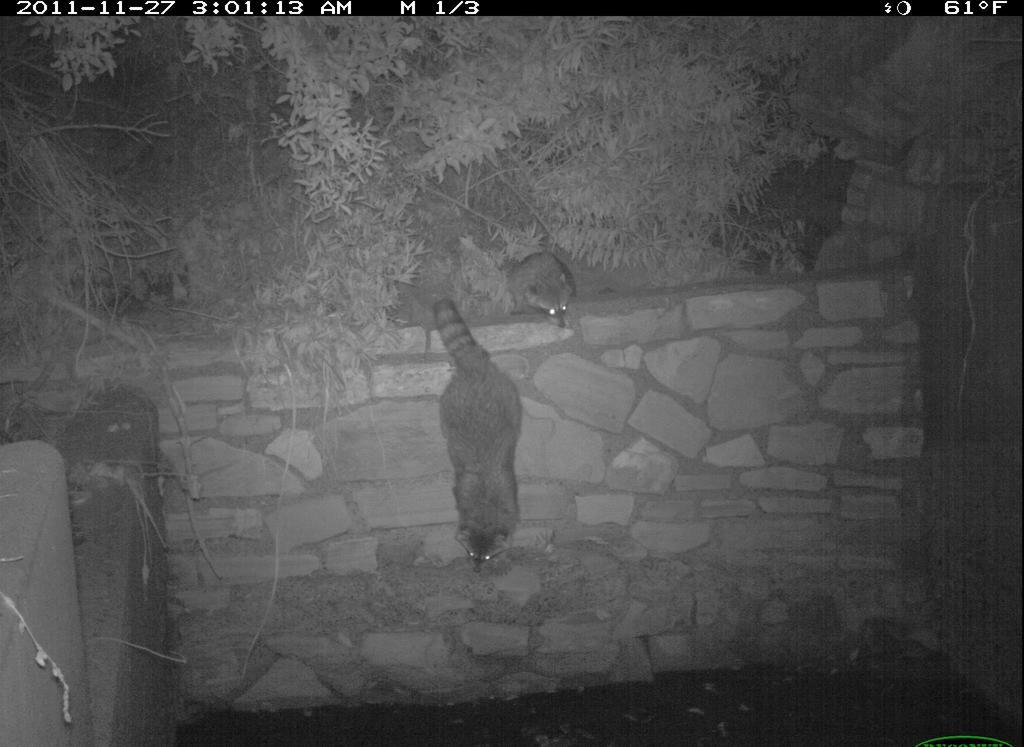raccoon: (421, 294, 530, 577), (509, 248, 580, 340)
